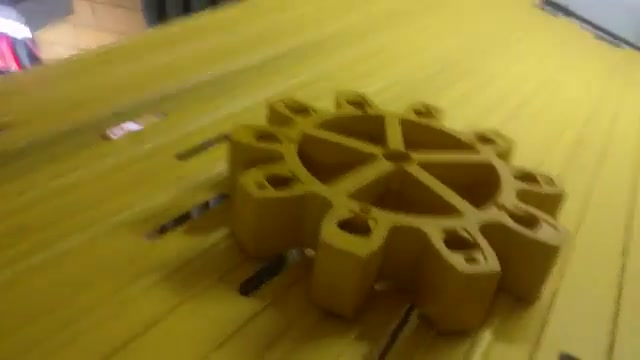gear: (212, 74, 585, 342)
